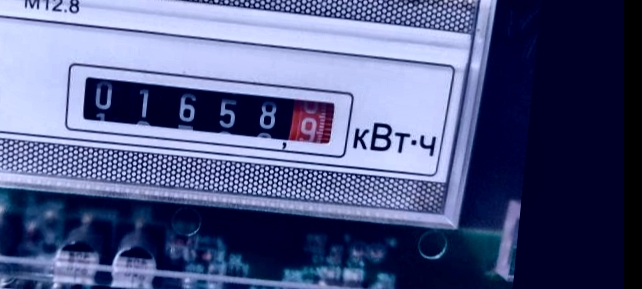0: (92, 79, 115, 111)
1: (134, 86, 154, 120)
5: (216, 96, 240, 129)
6: (176, 89, 199, 124)
8: (257, 97, 280, 131)
9: (296, 115, 319, 145)
screen: (53, 54, 360, 165)
